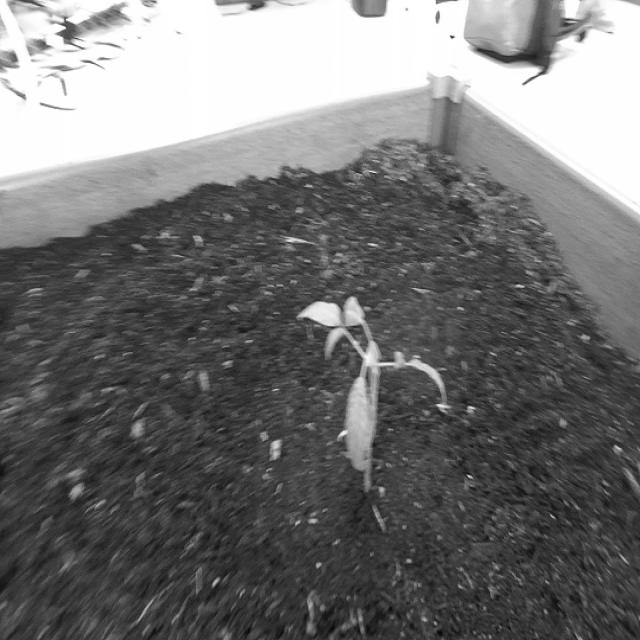Healthy: (297, 288, 448, 503)
